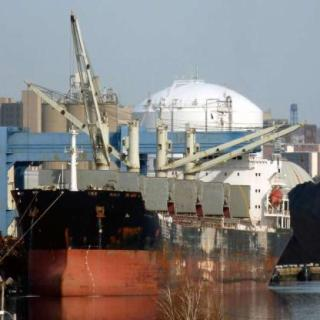Bulk Carrier: (4, 0, 309, 290)
